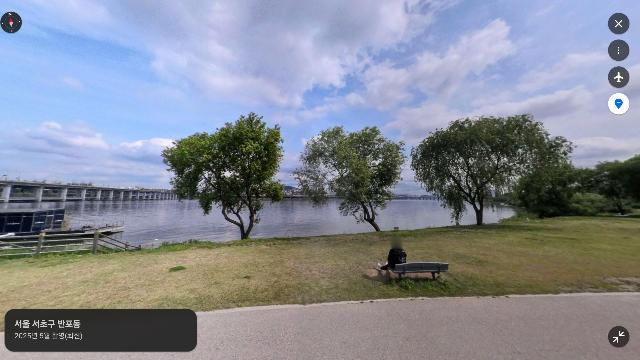other: (409, 112, 574, 227), (160, 111, 286, 240), (291, 124, 409, 232), (568, 153, 640, 218)
